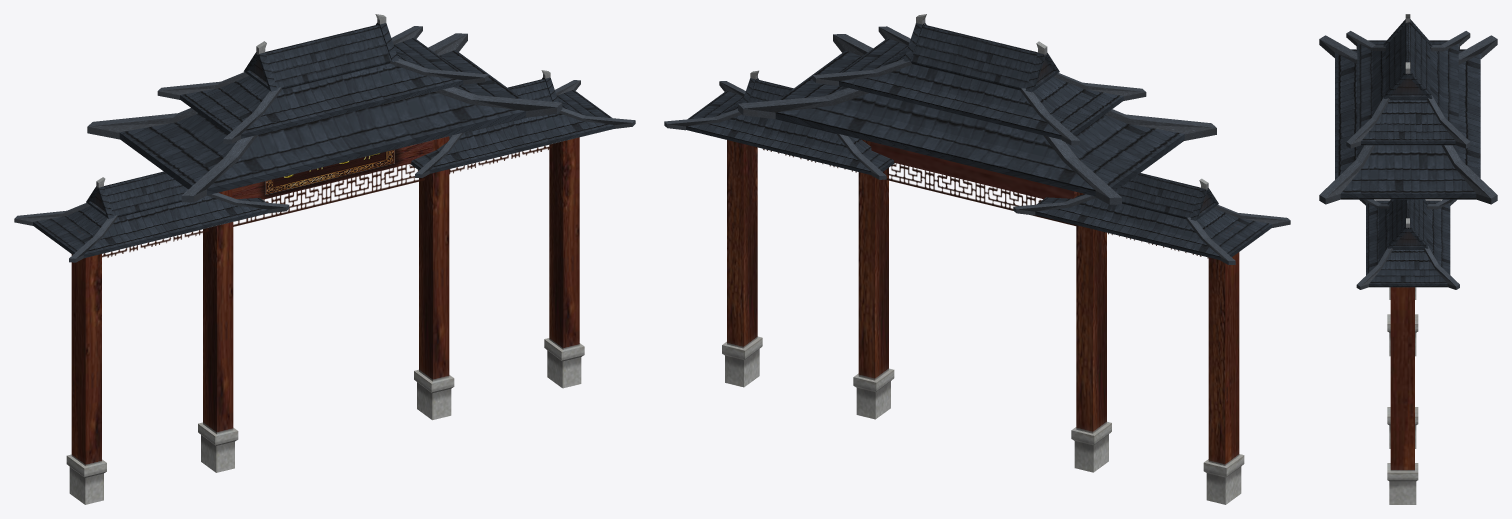
File: 0building - chinese_architecture.glb
3 views of the same model, side by side, from view 1: azimuth 30°, elevation 25°; view 2: azimuth 150°, elevation 25°; view 3: azimuth 270°, elevation 25° (orthographic). The views are drawn at different scales.
Visible parts, largest first — view 1: Object097_Material #25_0, Object097_Material #37_0; view 2: Object097_Material #25_0, Object097_Material #37_0; view 3: Object097_Material #25_0.
Boxes of the visible parts, x1=… form: Object097_Material #25_0: x1=14, y1=14, x2=635, y2=504; Object097_Material #37_0: x1=102, y1=144, x2=552, y2=257; Object097_Material #25_0: x1=664, y1=14, x2=1290, y2=504; Object097_Material #37_0: x1=756, y1=147, x2=1208, y2=258; Object097_Material #25_0: x1=1319, y1=14, x2=1497, y2=504.
Bounding box in the file's own units: 1436 × 989 × 444.
Materials: 2 (2 with a texture image).
